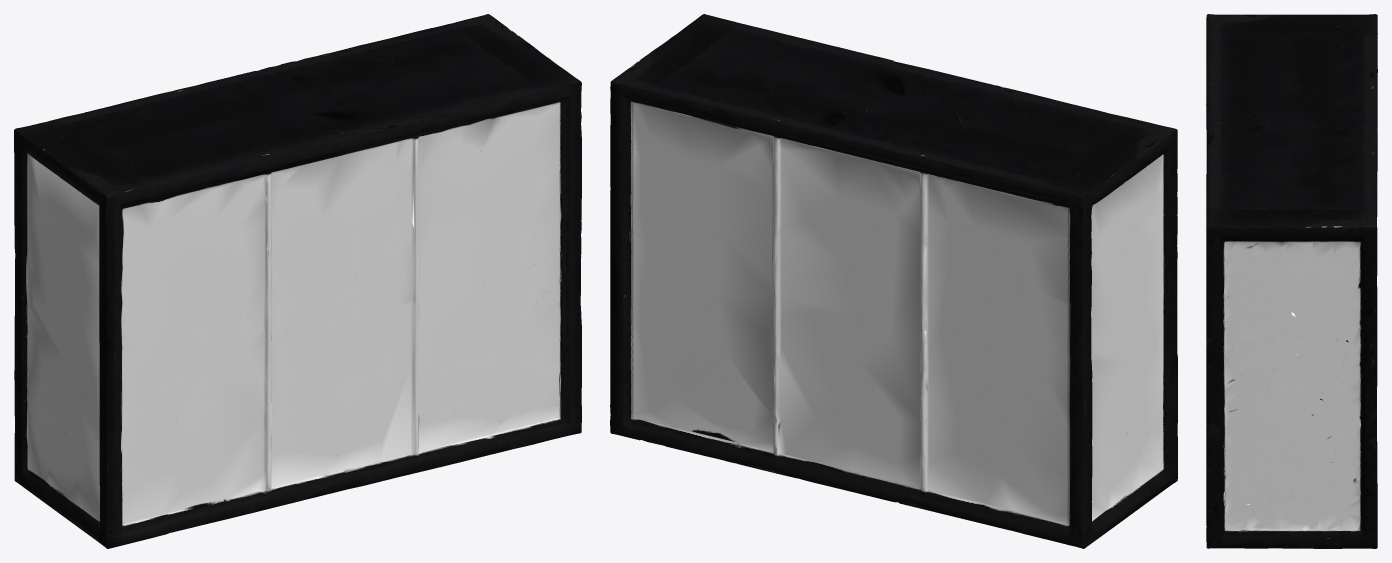
The model's file is window.glb.
3 views of the same model, side by side, from view 1: azimuth 30°, elevation 25°; view 2: azimuth 150°, elevation 25°; view 3: azimuth 270°, elevation 25° (orthographic). The views are drawn at different scales.
Size of the model in its own units: 2.01 by 1.43 by 0.6868.
Materials: 1 (1 with a texture image).
